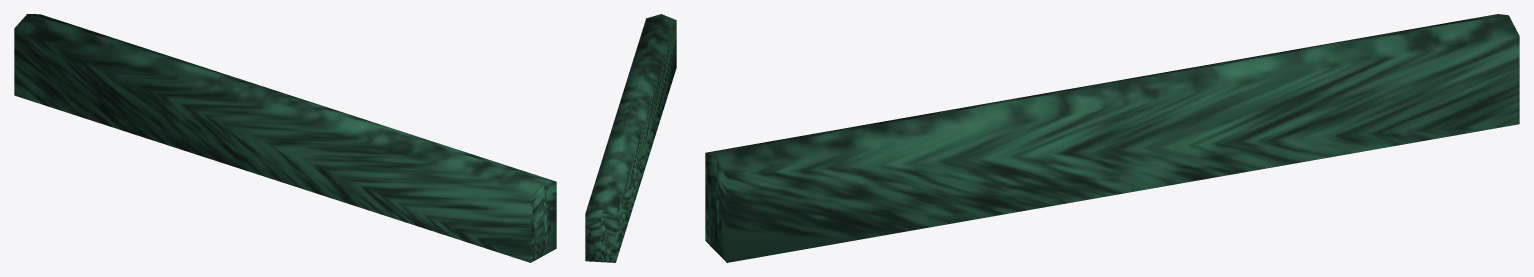
Rendered from Ring2W7.fbx.
The picture shows the model from 3 angles, left to right: view 1: azimuth 30°, elevation 25°; view 2: azimuth 150°, elevation 25°; view 3: azimuth 270°, elevation 25°; orthographic projection. The views are drawn at different scales.
Visible parts, largest first — view 1: Ring2W7; view 2: Ring2W7; view 3: Ring2W7.
Boxes of the visible parts, x1=… form: Ring2W7: x1=14, y1=14, x2=556, y2=262; Ring2W7: x1=585, y1=14, x2=676, y2=262; Ring2W7: x1=705, y1=14, x2=1519, y2=262.
Size of the model in its own units: 1409 by 400 by 3015.
